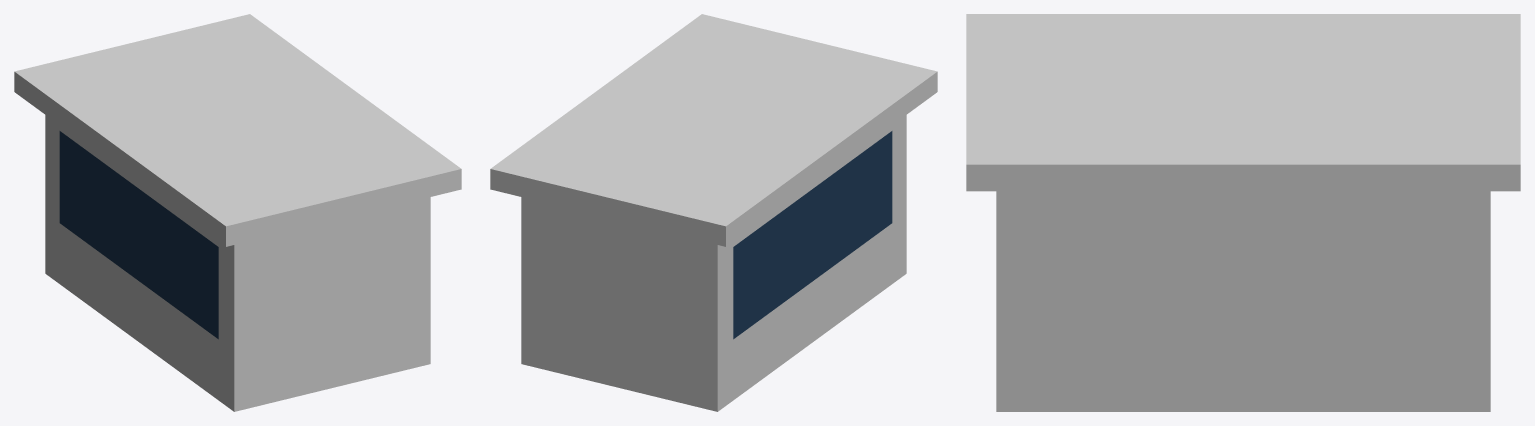
Rendered from roofprop.fbx.
The picture shows the model from 3 angles, left to right: view 1: azimuth 30°, elevation 25°; view 2: azimuth 150°, elevation 25°; view 3: azimuth 270°, elevation 25°; orthographic projection. The views are drawn at different scales.
Parts seen in each view (by area): view 1: a2002/400/roofprop; view 2: a2002/400/roofprop; view 3: a2002/400/roofprop.
Boxes of the visible parts, x1,y1,x2,y2 form: a2002/400/roofprop: [14, 14, 461, 411]; a2002/400/roofprop: [490, 14, 937, 411]; a2002/400/roofprop: [966, 14, 1520, 411].
Size of the model in its own units: 3.6 by 2.9 by 5.6.
